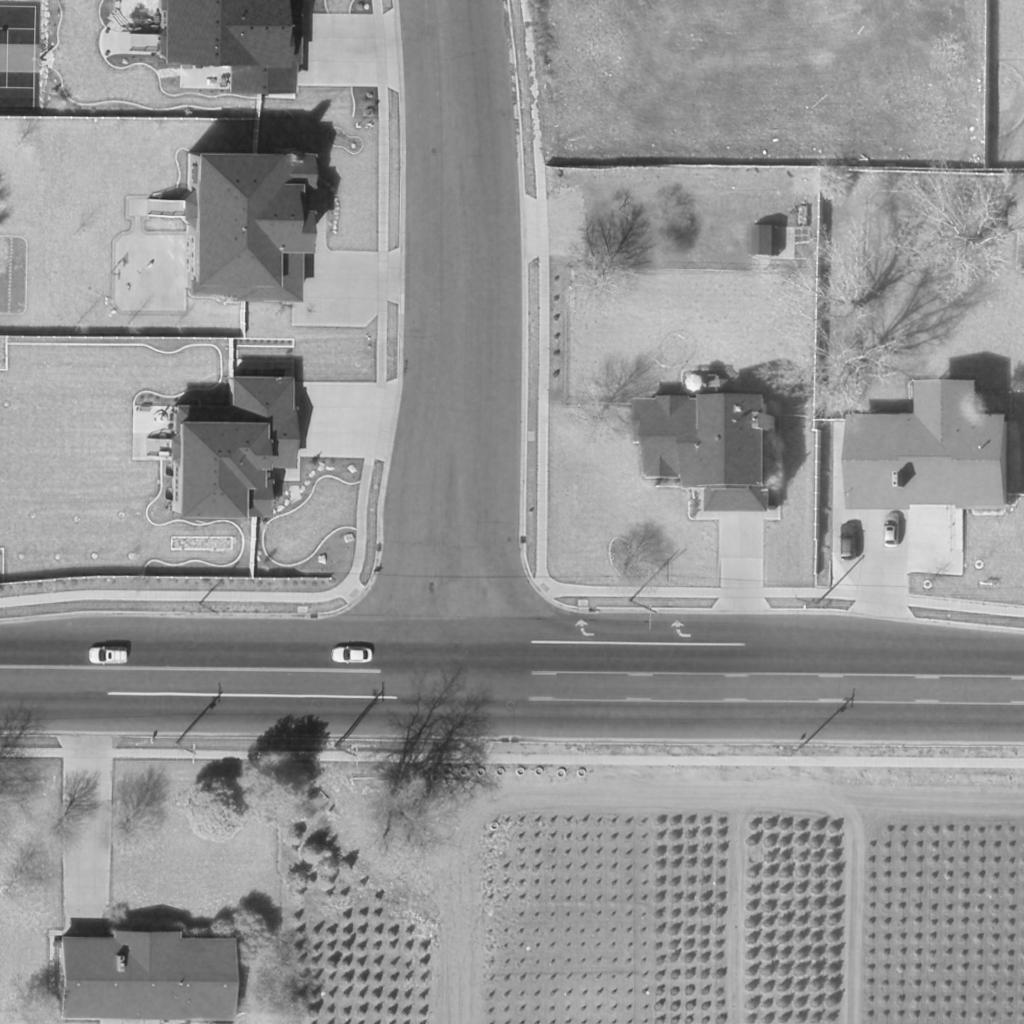vehicle: (87, 642, 131, 668), (332, 646, 374, 664), (840, 521, 858, 563), (883, 513, 901, 547)
